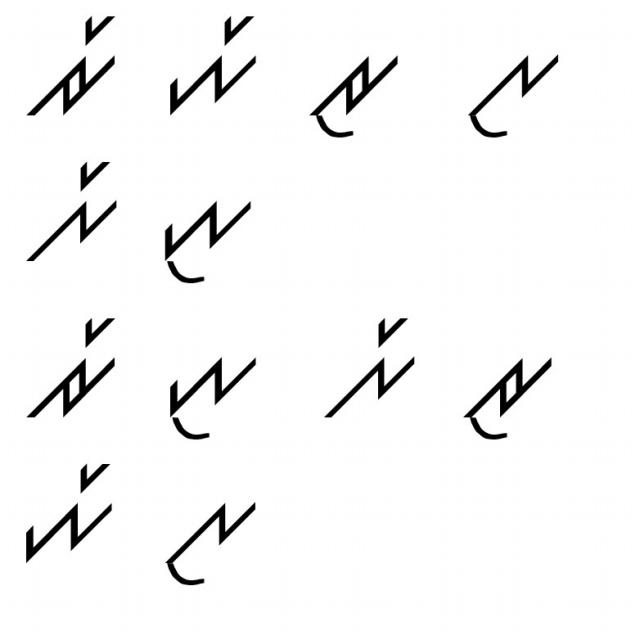lar: (312, 311, 422, 422), (22, 157, 124, 267)
law: (146, 486, 262, 598), (466, 44, 566, 151)
rar: (22, 5, 125, 132), (24, 314, 125, 426)
raw: (461, 337, 558, 457), (313, 44, 401, 142)
yar: (19, 458, 125, 568), (153, 8, 263, 114)
yaw: (158, 334, 272, 446), (160, 185, 257, 291)
